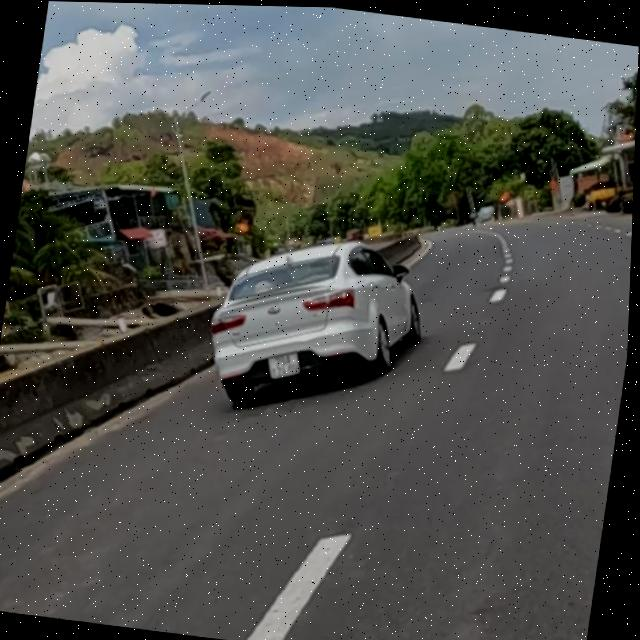car: (193, 223, 436, 432)
plate: (262, 350, 308, 385)
